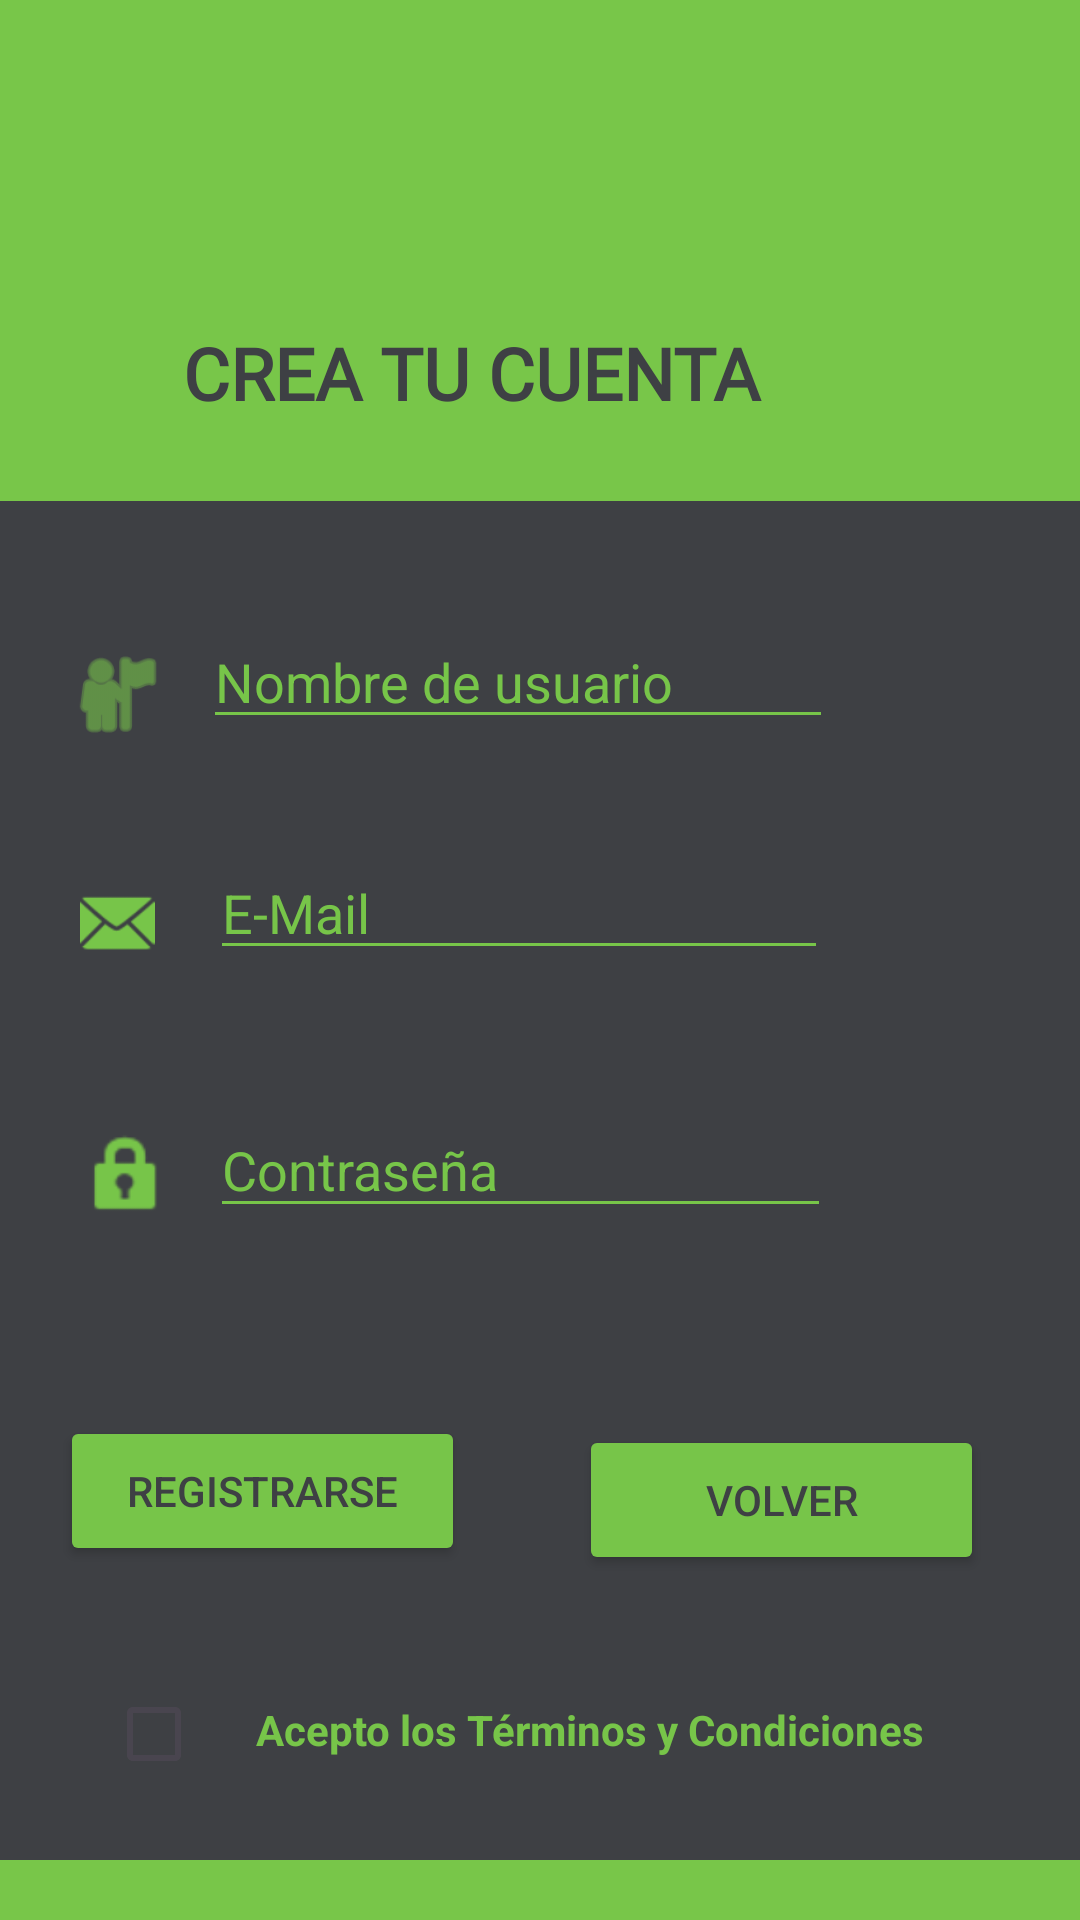

Screen size 1080w x 1920h. Icon name, then its box in pixels as region(x1, y1, x2, y2):
lock idle: region(94, 1137, 156, 1210)
myplaces: region(80, 657, 156, 732)
